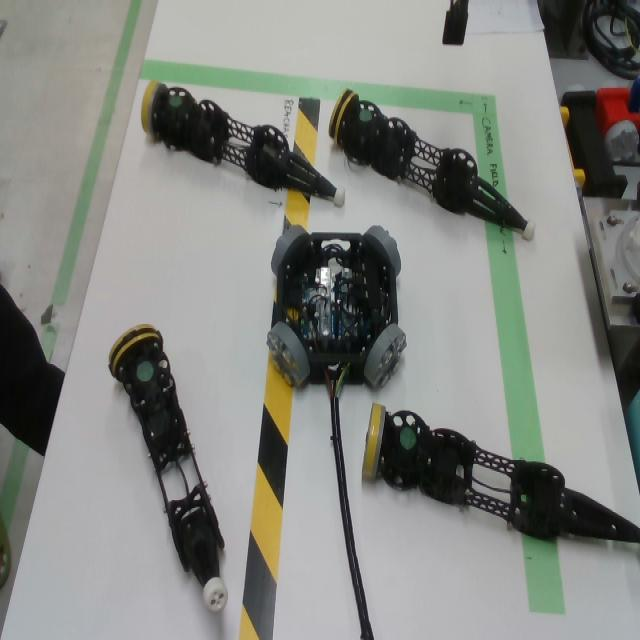body: (277, 232, 398, 387)
body_connector: (266, 323, 310, 388), (364, 324, 407, 388), (362, 225, 401, 277), (271, 225, 309, 276)
leg: (362, 403, 640, 544), (107, 323, 228, 613), (327, 88, 536, 241), (142, 80, 346, 208)
leg_connector: (107, 324, 164, 383), (361, 403, 385, 481), (328, 87, 359, 144), (140, 80, 167, 136)
leg_marker: (137, 361, 154, 383), (400, 427, 416, 449), (359, 109, 373, 123), (170, 96, 181, 108)
